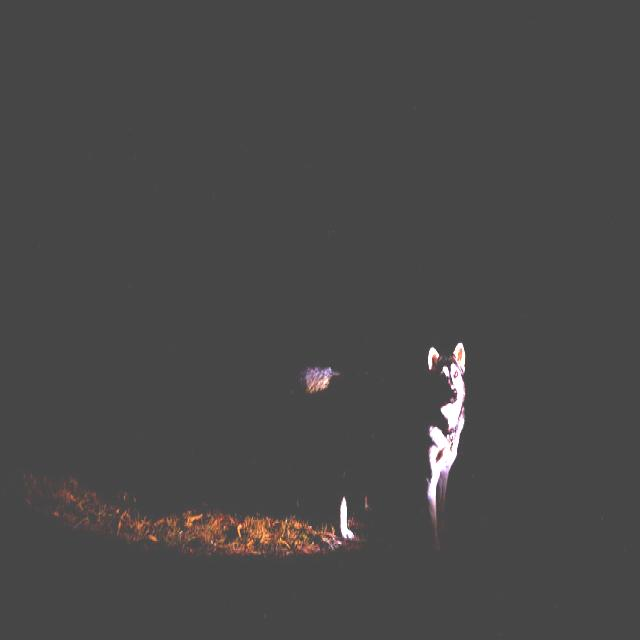Dog: (293, 267, 529, 600)
